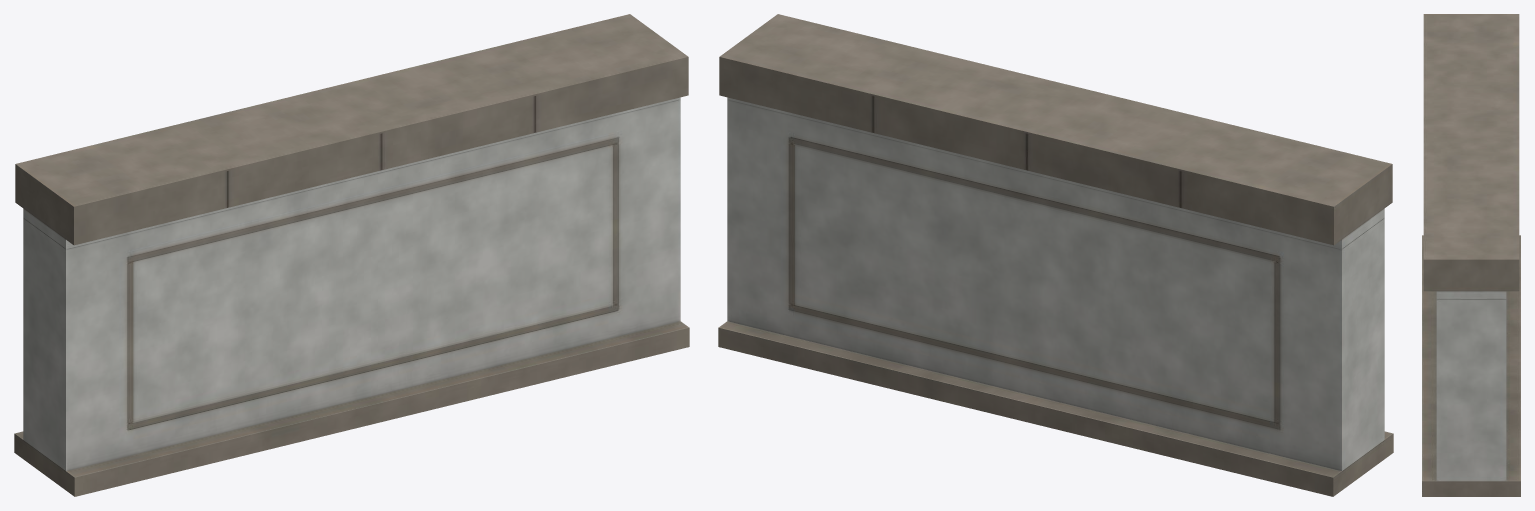
Rendered from charter_parapet.glb.
The picture shows the model from 3 angles, left to right: view 1: azimuth 30°, elevation 25°; view 2: azimuth 150°, elevation 25°; view 3: azimuth 270°, elevation 25°; orthographic projection. The views are drawn at different scales.
Visible parts, largest first — view 1: charter_parapet; view 2: charter_parapet; view 3: charter_parapet.
Part boxes in pixels (bbox=[...]): charter_parapet: bbox=[14, 14, 689, 496]; charter_parapet: bbox=[718, 14, 1393, 496]; charter_parapet: bbox=[1422, 14, 1520, 496].
Bounding box in the file's own units: 2 × 0.9 × 0.34.
1 material, 1 textured.
